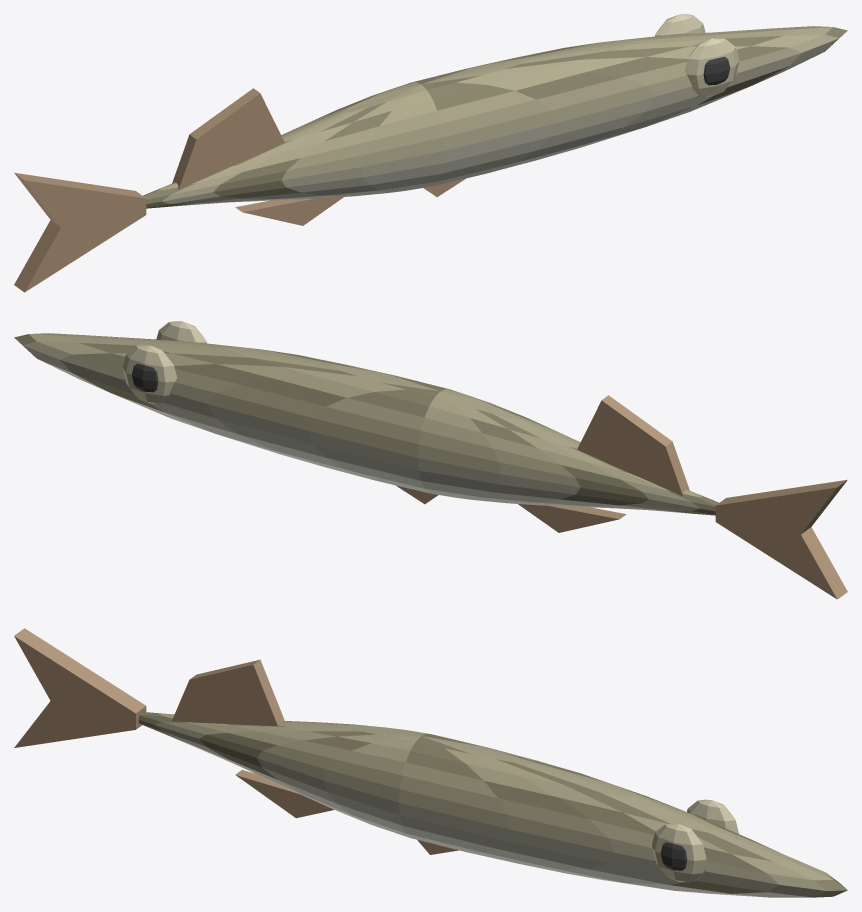
The model's file is Muskellunge.glb.
The picture shows the model from 3 angles, top to bottom: view 1: azimuth 30°, elevation 25°; view 2: azimuth 150°, elevation 25°; view 3: azimuth 330°, elevation 25°; orthographic projection.
Visible parts, largest first — view 1: Muskellunge; view 2: Muskellunge; view 3: Muskellunge.
Part boxes in pixels (x1,y1,x2,y2): Muskellunge: (14,14,847,292); Muskellunge: (14,321,847,599); Muskellunge: (14,628,847,897).
Size of the model in its own units: 10.77 by 1.83 by 1.07.
